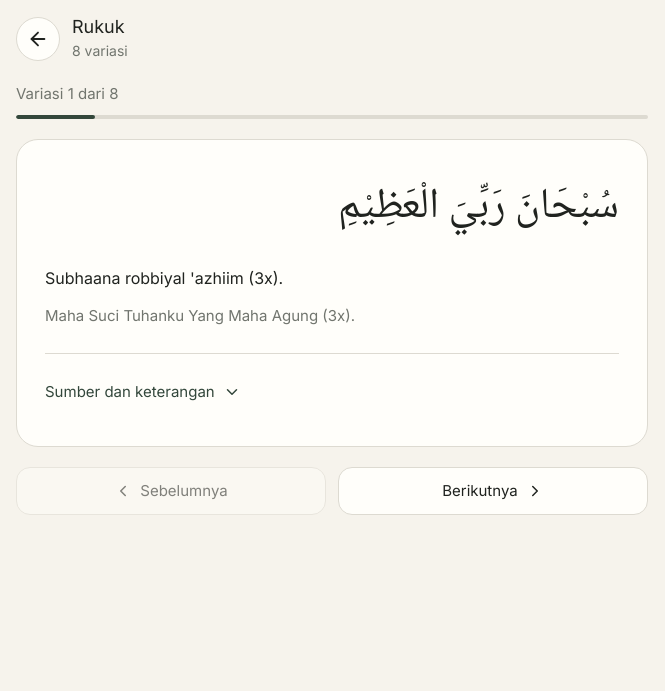
Test: Detail page › returns to the home page via the back button
The image size is (665, 691).
Check: the text "Variasi 1 dari 8" is shown, box [16,84,118,103]
Click the button named "Kembali ke Urutan Shalat". click: (38, 38)
box: [16,16,60,60]
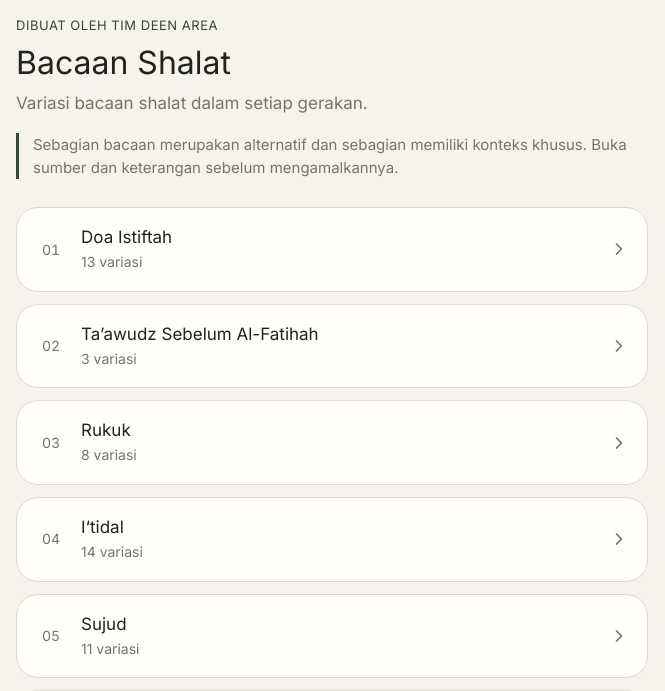
Check: the heading "Bacaan Shalat" is shown, box [16,43,231,82]
